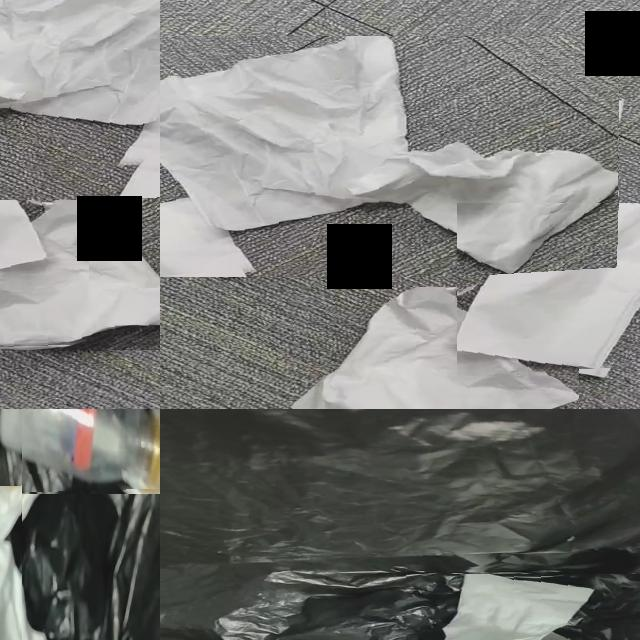bottle: (4, 409, 160, 490)
paper: (160, 36, 618, 268), (294, 287, 579, 409), (457, 203, 640, 370), (0, 200, 160, 348), (0, 0, 160, 130), (443, 574, 592, 640), (89, 144, 160, 276)
